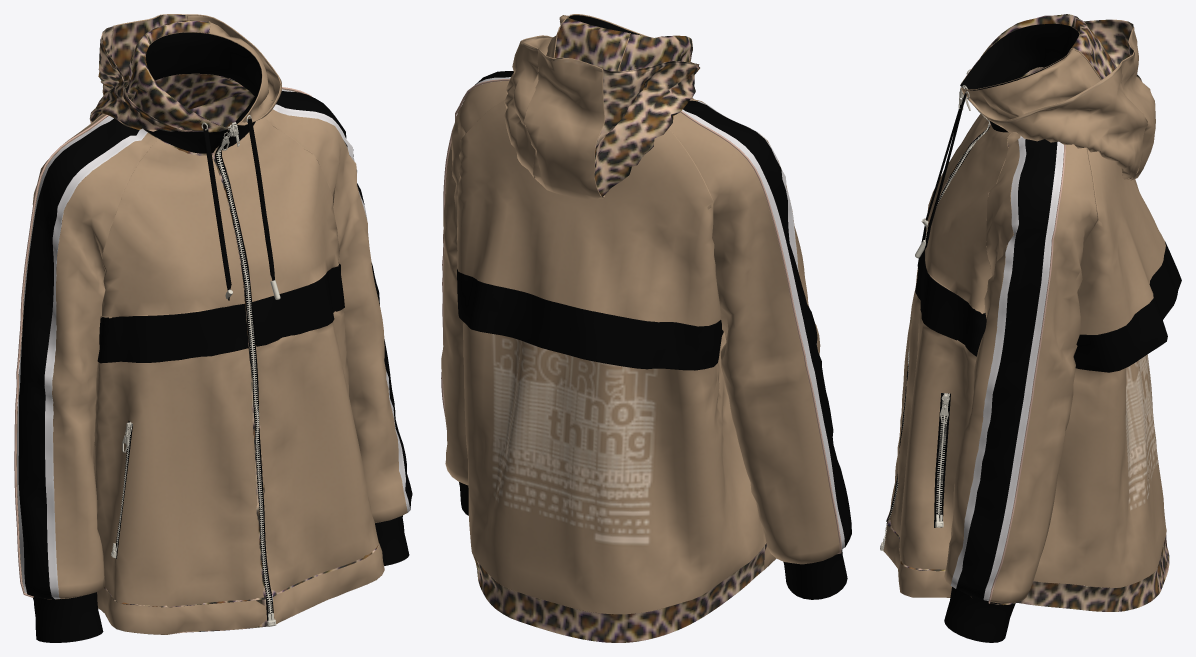
File: khaki_woven_symmetrical_loose_jacket.glb
3 renders of one model, left to right at view 1: azimuth 30°, elevation 25°; view 2: azimuth 150°, elevation 25°; view 3: azimuth 270°, elevation 25°, orthographic. The views are drawn at different scales.
Visible parts, largest first — view 1: Object_11, Object_10, Object_12, Object_14, Object_9, Object_15, Object_13, Object_20, Object_19; view 2: Object_13, Object_14, Object_12, Object_16, Object_15, Object_11, Object_9; view 3: Object_12, Object_13, Object_14, Object_11, Object_10, Object_16, Object_9, Object_15.
Part boxes in pixels (box(x1,y1,x2,y2)): Object_11: box(93, 14, 378, 607); Object_10: box(52, 109, 407, 598); Object_12: box(18, 73, 412, 642); Object_14: box(16, 26, 410, 599); Object_9: box(14, 78, 384, 634); Object_15: box(44, 14, 389, 599); Object_13: box(94, 91, 254, 444); Object_20: box(218, 130, 272, 612); Object_19: box(216, 128, 271, 613); Object_13: box(461, 148, 765, 642); Object_14: box(441, 34, 844, 614); Object_12: box(457, 71, 851, 599); Object_16: box(457, 269, 723, 370); Object_15: box(523, 17, 630, 199); Object_11: box(504, 14, 766, 543); Object_9: box(441, 79, 841, 569); Object_12: box(887, 67, 1165, 642); Object_13: box(1016, 221, 1169, 611); Object_14: box(950, 14, 1141, 603); Object_11: box(890, 23, 1148, 571); Object_10: box(887, 125, 1020, 605); Object_16: box(1073, 241, 1181, 372); Object_9: box(883, 67, 1065, 603); Object_15: box(970, 17, 1155, 596).
Bounding box in the file's own units: 524 × 724 × 365.
Materials: 11 (1 with a texture image).
